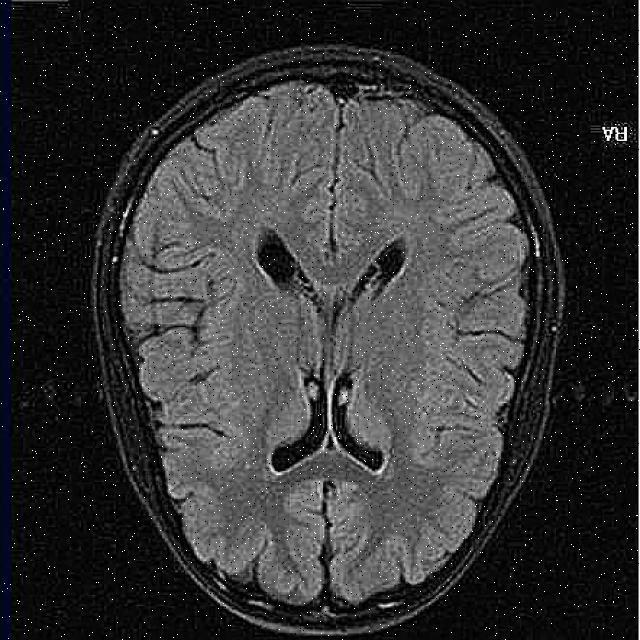No_Tumor: (93, 45, 564, 634)
